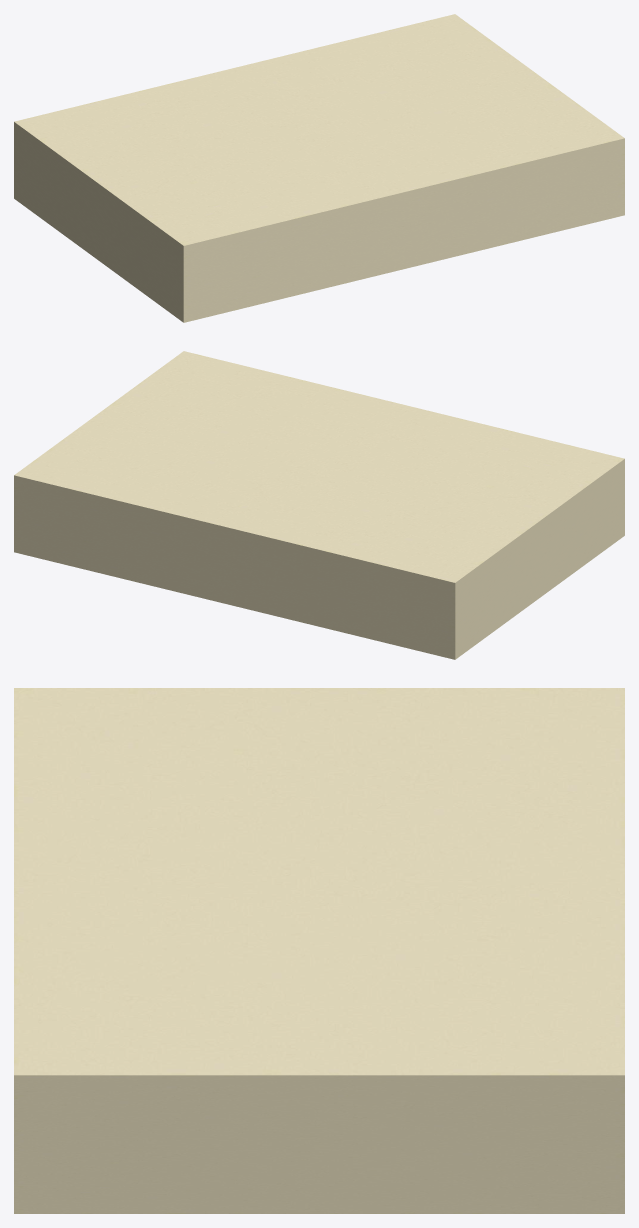
File: vinyl.fbx
The picture shows the model from 3 angles, top to bottom: view 1: azimuth 30°, elevation 25°; view 2: azimuth 150°, elevation 25°; view 3: azimuth 270°, elevation 25°; orthographic projection. The views are drawn at different scales.
Visible parts, largest first — view 1: Room; view 2: Room; view 3: Room.
Part boxes in pixels (<box>): Room: <box>14,14,624,322</box>; Room: <box>14,351,624,659</box>; Room: <box>14,688,624,1213</box>.
Bounding box in the file's own units: 2400 × 400 × 1600.
2 materials, 1 textured.
